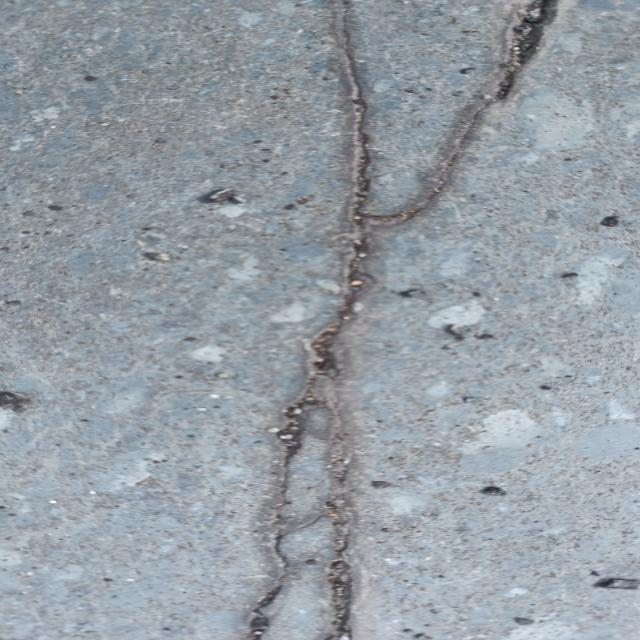branched cracks: (249, 0, 552, 639)
